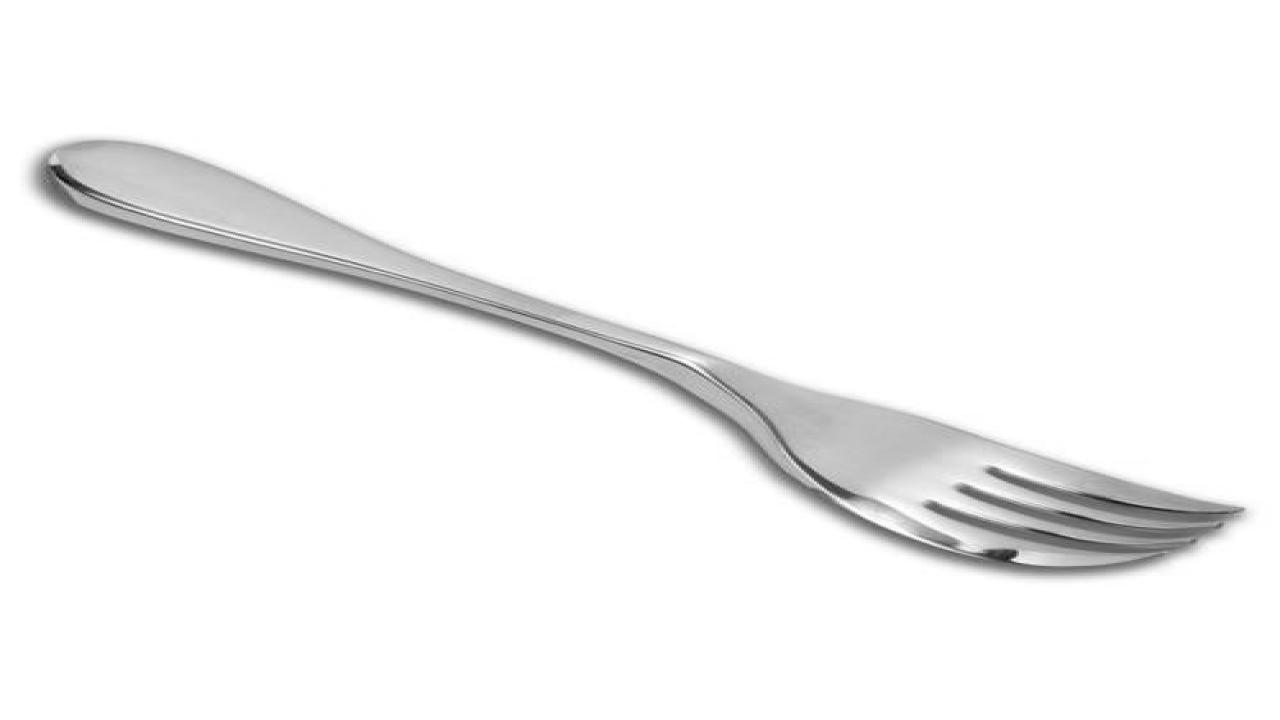fork: (41, 137, 1244, 569)
